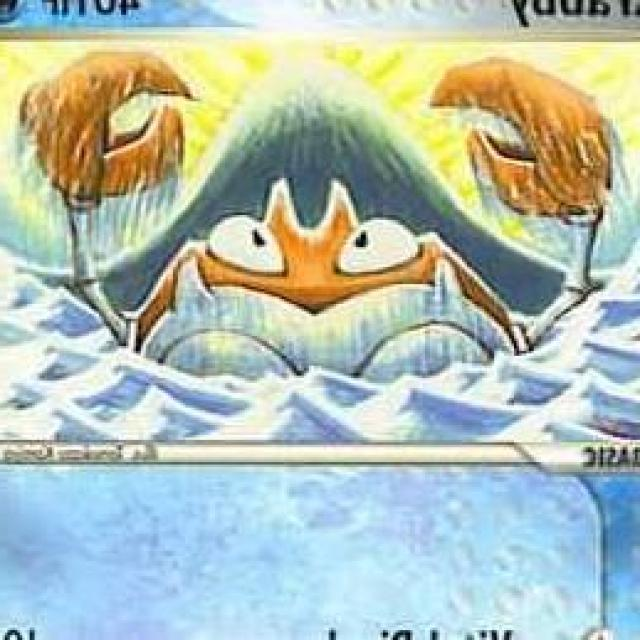Krabby: (54, 54, 582, 378)
